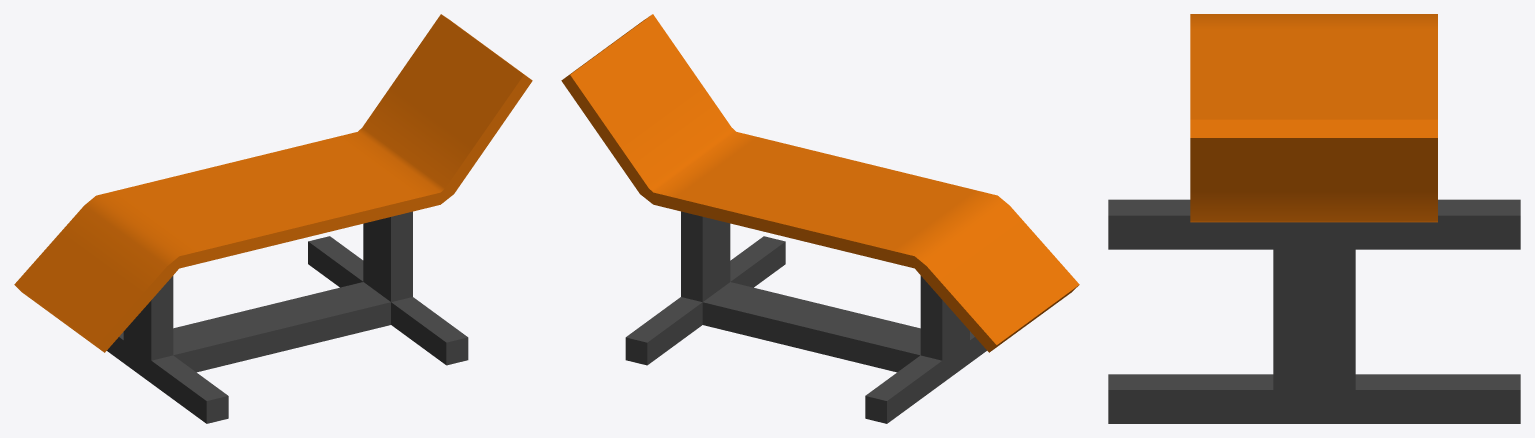
Rendered from SedyeSON.fbx.
The picture shows the model from 3 angles, left to right: view 1: azimuth 30°, elevation 25°; view 2: azimuth 150°, elevation 25°; view 3: azimuth 270°, elevation 25°; orthographic projection. The views are drawn at different scales.
Parts seen in each view (by area): view 1: Sedye; view 2: Sedye; view 3: Sedye.
Part boxes in pixels (<box>): Sedye: <box>14,14,532,423</box>; Sedye: <box>561,14,1079,423</box>; Sedye: <box>1108,14,1520,423</box>.
Size of the model in its own units: 200 by 107 by 110.
